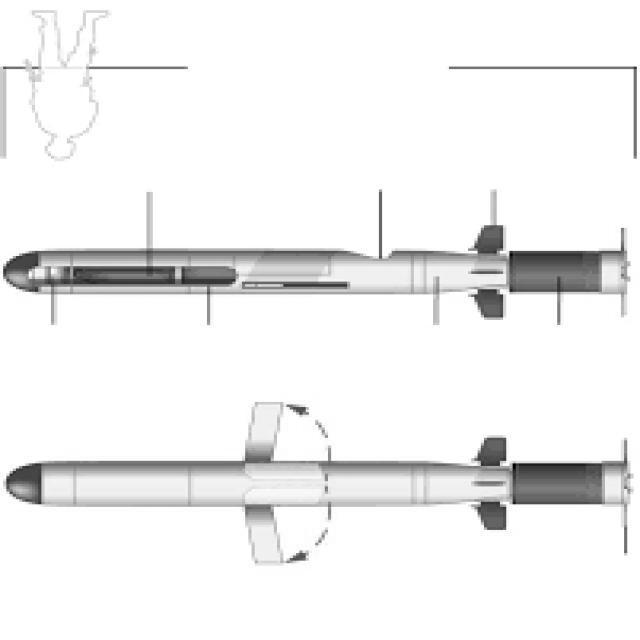Missile: (0, 194, 640, 344)
